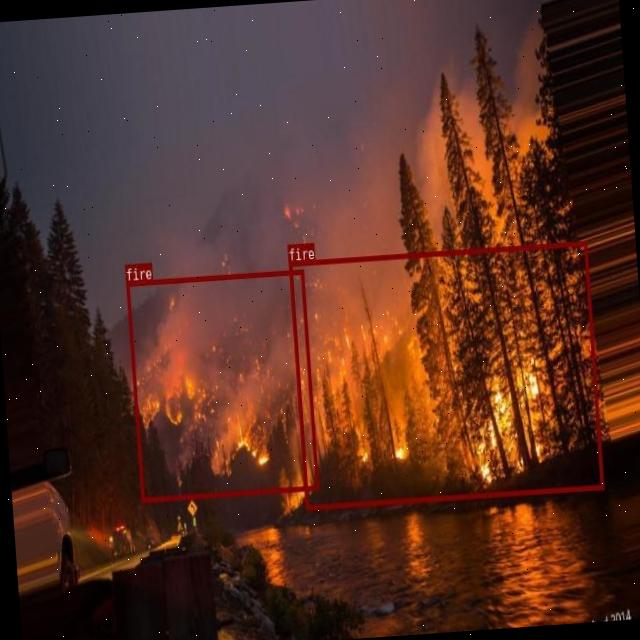fire: (287, 241, 604, 508), (126, 269, 319, 501)
